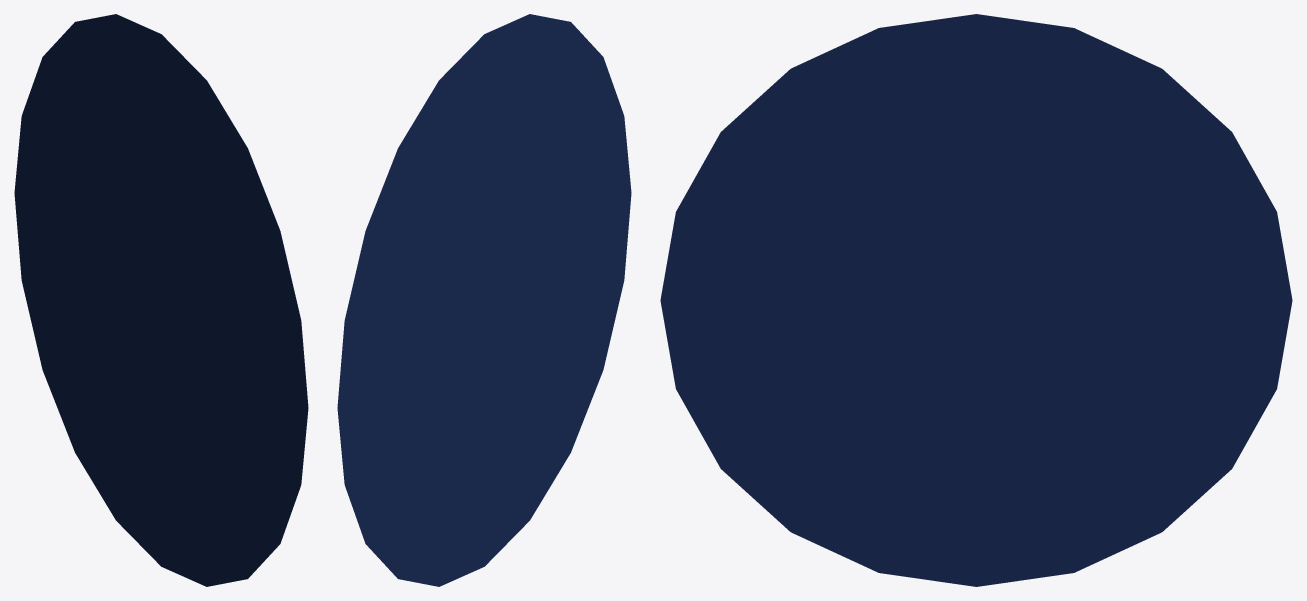
The model's file is blue_circle.obj.
3 views of the same model, side by side, from view 1: azimuth 30°, elevation 25°; view 2: azimuth 150°, elevation 25°; view 3: azimuth 270°, elevation 25° (orthographic). The views are drawn at different scales.
Parts seen in each view (by area): view 1: obj_0; view 2: obj_0; view 3: obj_0.
Boxes of the visible parts, x1,y1,x2,y2 form: obj_0: [14, 14, 308, 586]; obj_0: [337, 14, 631, 586]; obj_0: [660, 14, 1292, 586].
Bounding box in the file's own units: 0.01 × 20 × 20.
